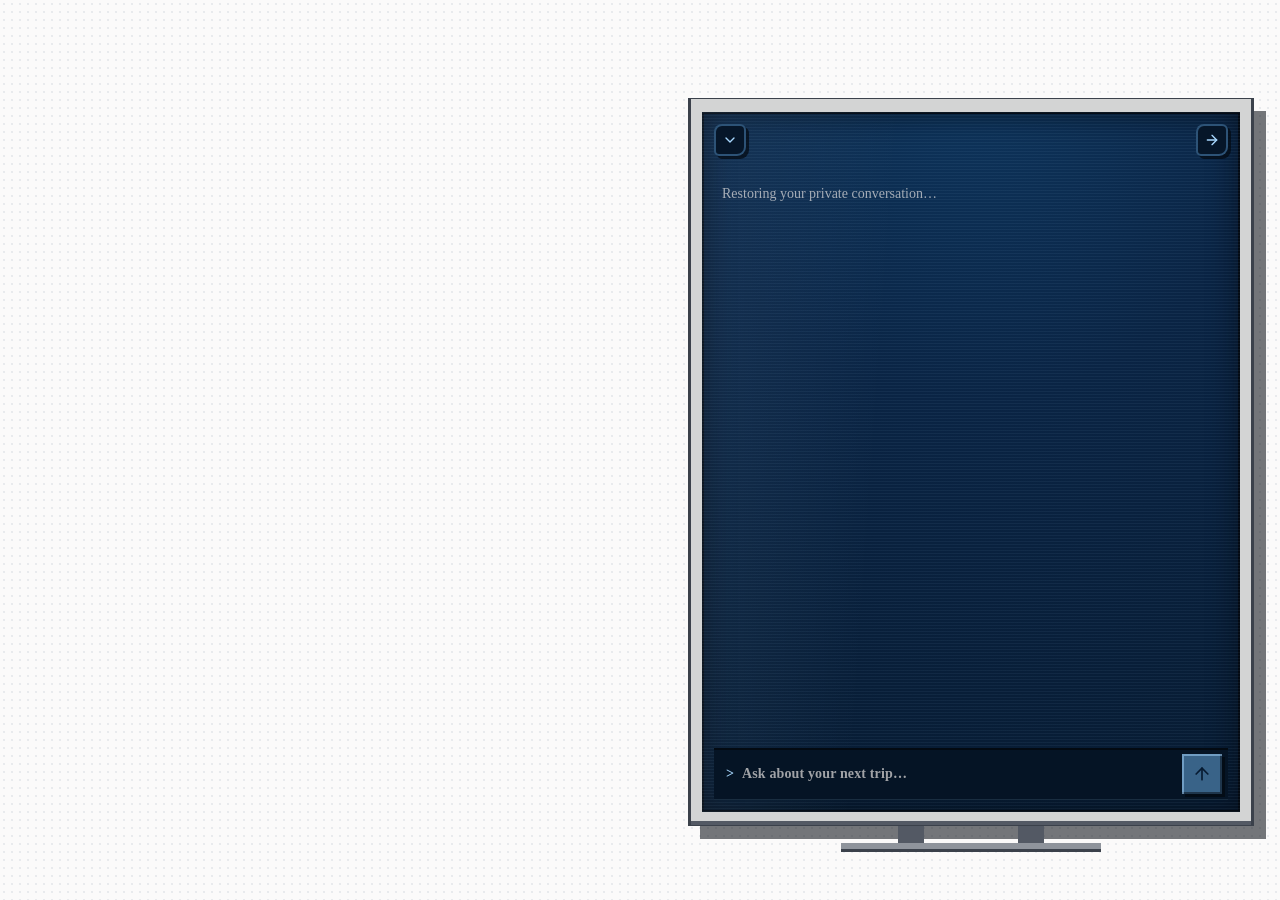
when a durable run fails › does not blame the send when a conversation run fails on the server
In the text box named "Message Wanderly Agent": {"x": 958, "y": 774} [742,764,1174,784], type "请你帮我介绍一下 Melville Senior High School WA"
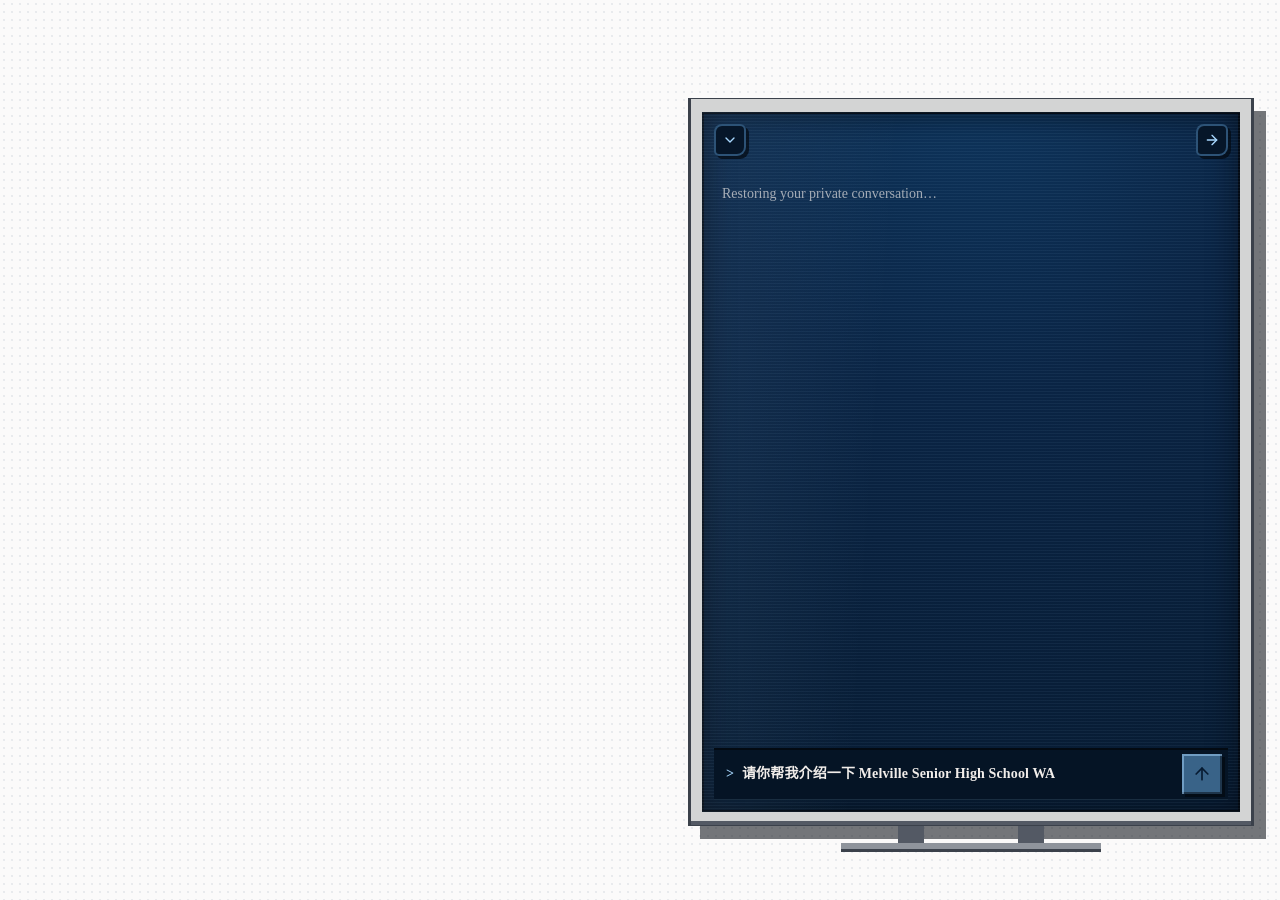
Click the button named "Send message": {"x": 1202, "y": 774} [1182,754,1222,794]
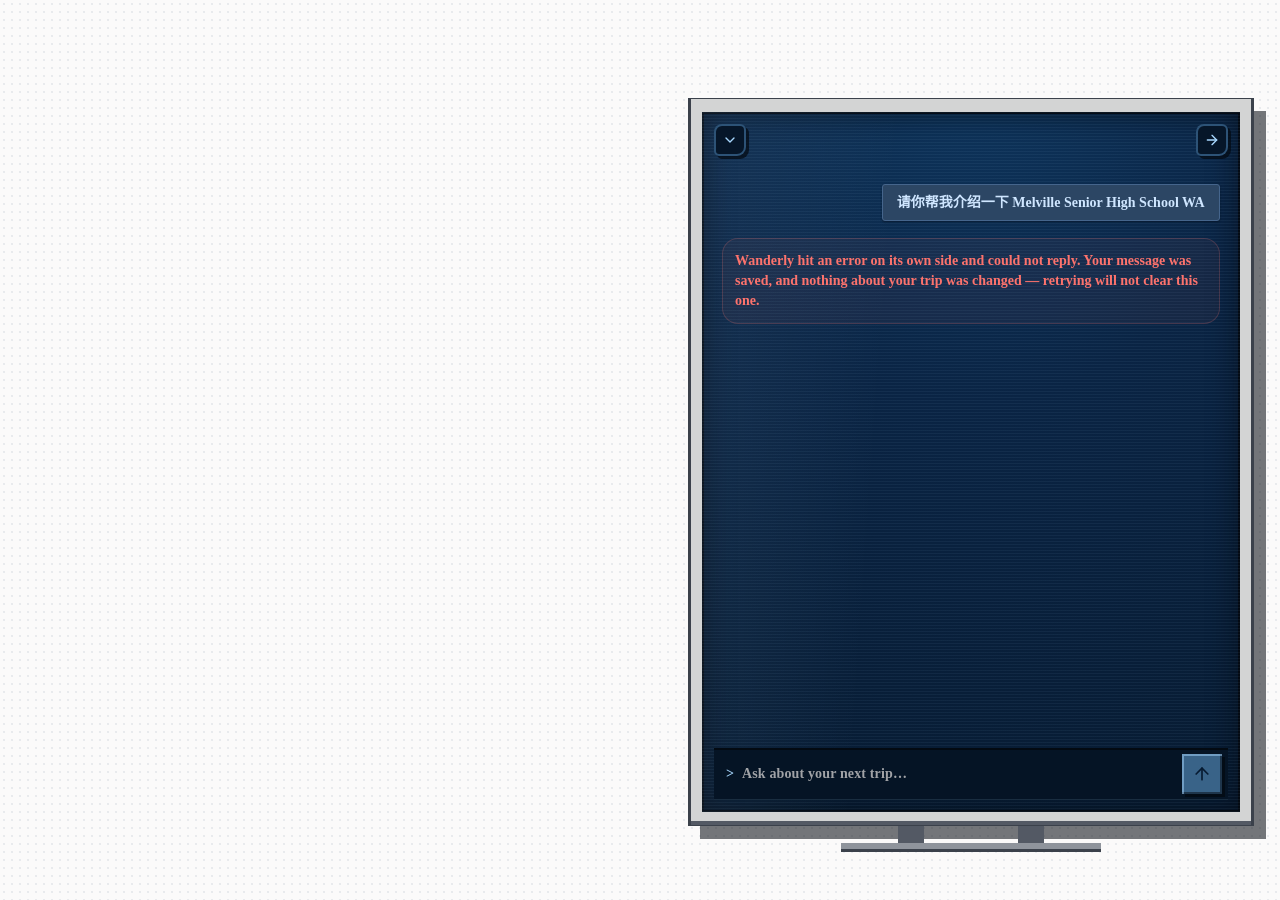
Expected: the message shows "your message was saved", [735,253,1198,308]
